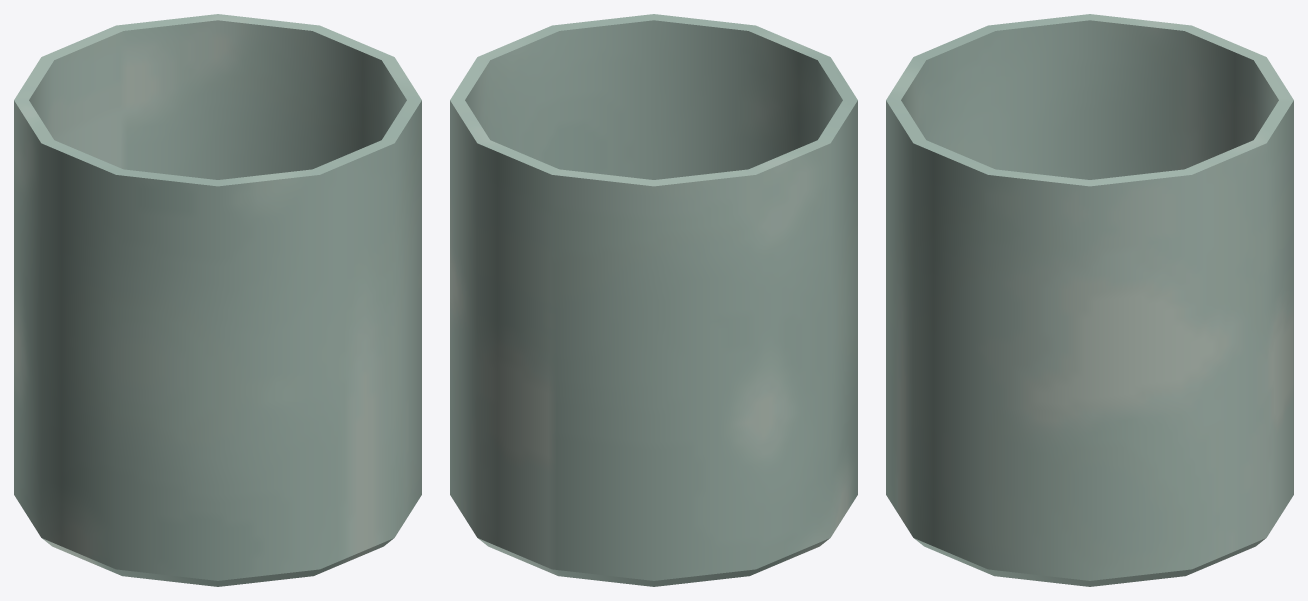
Rendered from HB_Glass_Tumbler.fbx.
3 renders of one model, left to right at view 1: azimuth 30°, elevation 25°; view 2: azimuth 150°, elevation 25°; view 3: azimuth 270°, elevation 25°, orthographic.
Visible parts, largest first — view 1: HB_Glass_Tumbler; view 2: HB_Glass_Tumbler; view 3: HB_Glass_Tumbler.
Boxes of the visible parts, left/top/right/bottom form: HB_Glass_Tumbler: left=14, top=14, right=421, bottom=586; HB_Glass_Tumbler: left=450, top=14, right=857, bottom=586; HB_Glass_Tumbler: left=886, top=14, right=1293, bottom=586.
Size of the model in its own units: 0.082 by 0.09 by 0.082.
Materials: 1 (1 with a texture image).
